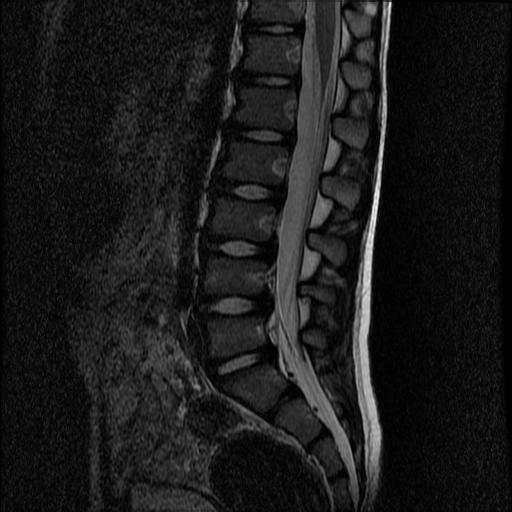D1: (224, 117, 297, 151)
